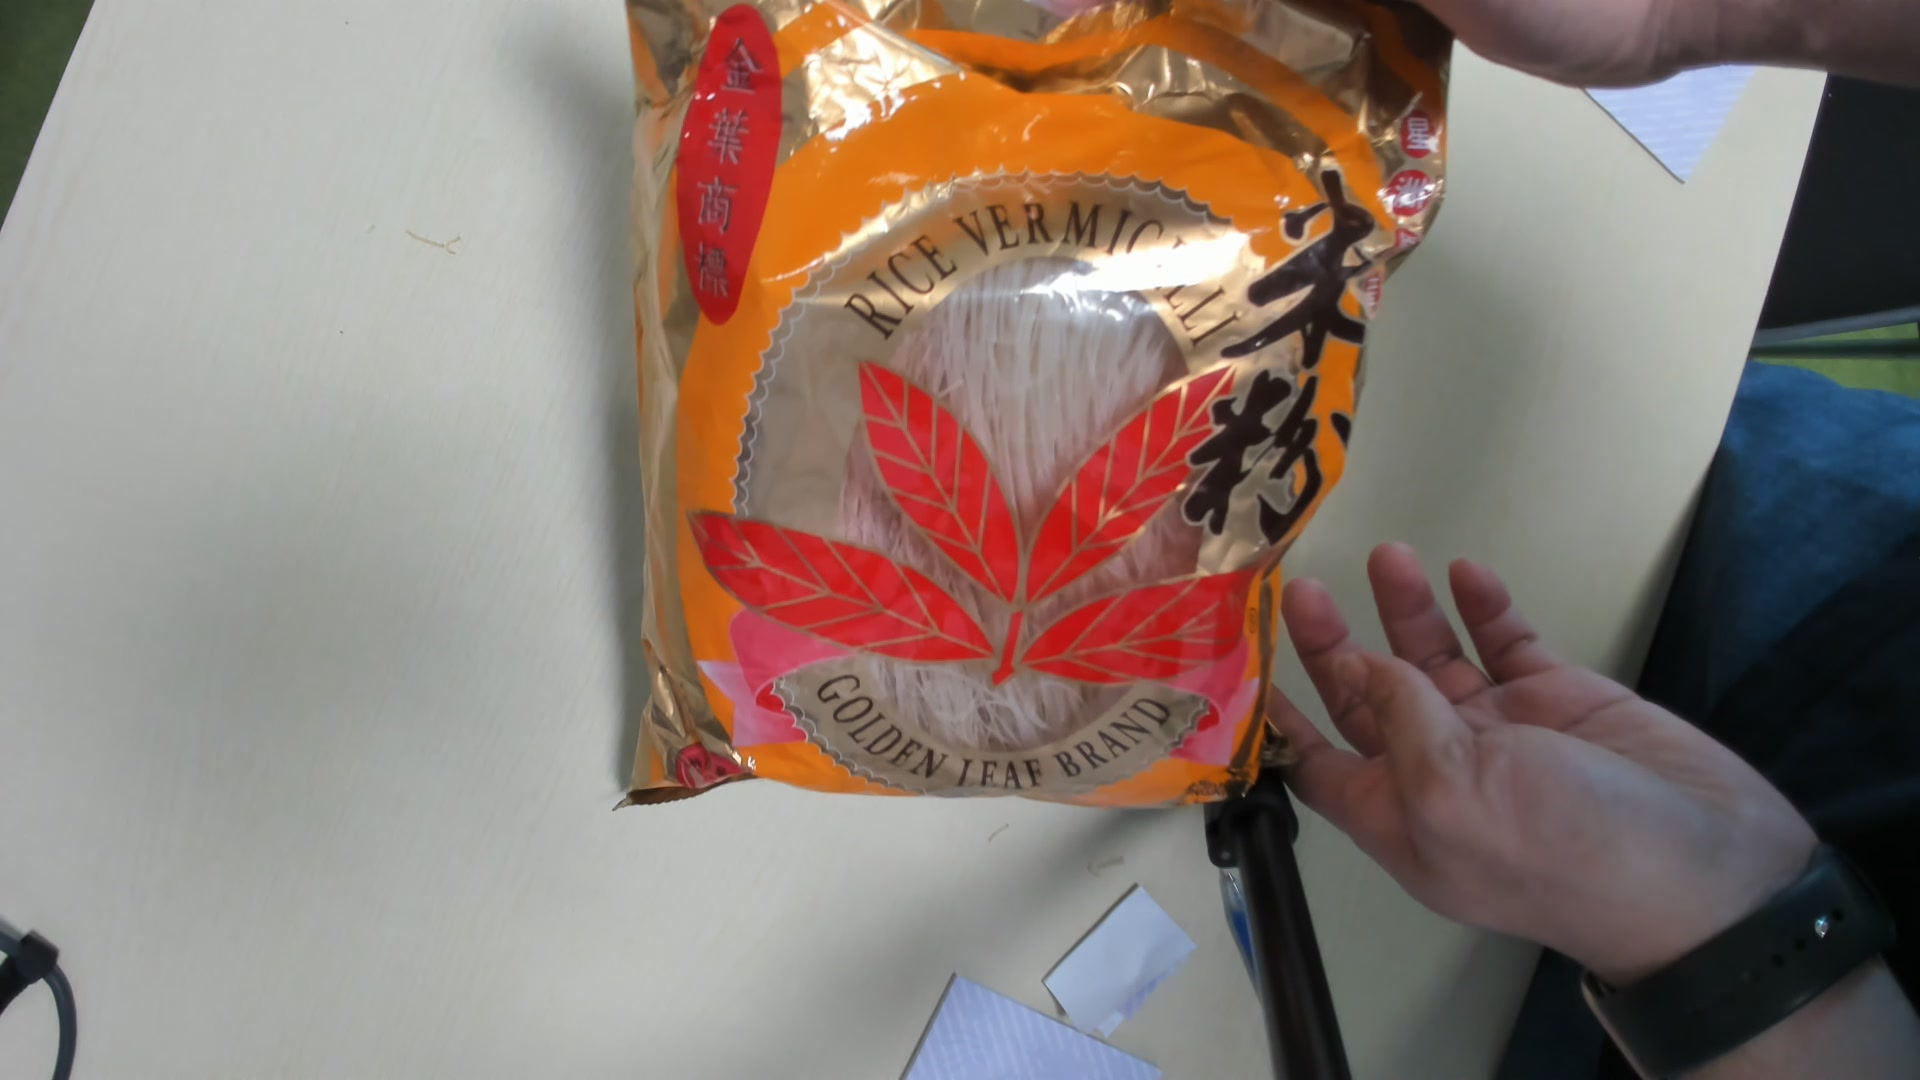OtherNoodles_400-499g_Halal_NonHealthy: (626, 8, 1460, 823)
